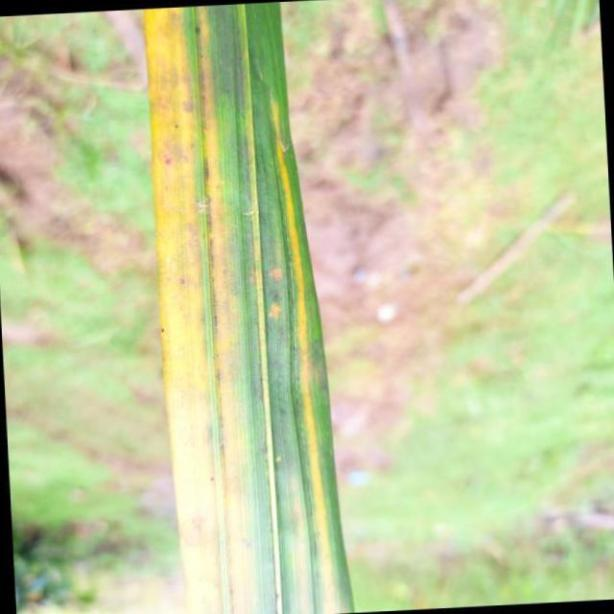Megnesium: (138, 0, 356, 614)
